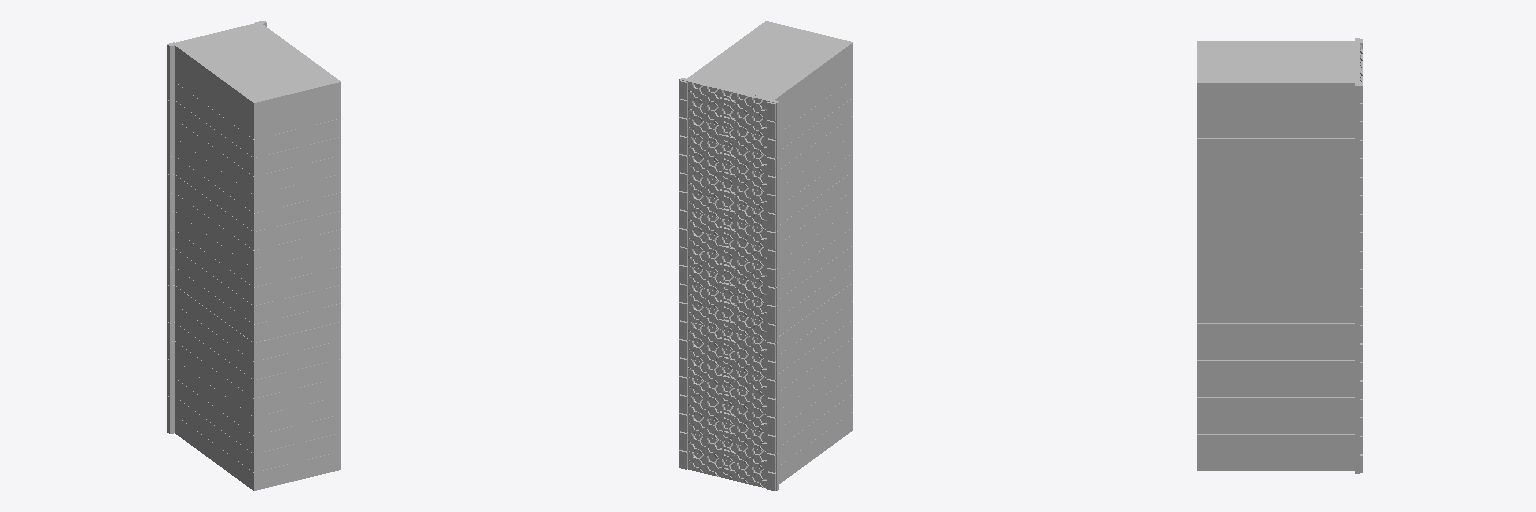
Rendered from r740_hex_block.obj.
3 views of the same model, side by side, from view 1: azimuth 30°, elevation 25°; view 2: azimuth 150°, elevation 25°; view 3: azimuth 270°, elevation 25° (orthographic).
Visible parts, largest first — view 1: Chassis.020_Cube.135, Chassis.007_Cube.053, Chassis.017_Cube.117, Chassis.001_Cube.005, Chassis.005_Cube.029, Chassis.013_Cube.090, Chassis.009_Cube.066, Chassis.008_Cube.059, Chassis.006_Cube.035, Chassis.014_Cube.096, Chassis.002_Cube.011, Chassis.004_Cube.023 (+9 smaller); view 2: Chassis.020_Cube.135, Chassis.007_Cube.053, Chassis.013_Cube.090, Chassis.017_Cube.117, Chassis.009_Cube.066, Chassis.001_Cube.005, Chassis.005_Cube.029, Chassis.002_Cube.011, Chassis.004_Cube.023, Chassis.006_Cube.035, Chassis.016_Cube.111, Chassis.008_Cube.059 (+28 smaller); view 3: Chassis.020_Cube.135, Chassis.001_Cube.005, Chassis.003_Cube.017, Chassis.005_Cube.029, Chassis.007_Cube.053, Chassis.017_Cube.117, Chassis.009_Cube.066, Chassis.011_Cube.078, Chassis.013_Cube.090, Chassis.015_Cube.105, Chassis.019_Cube.129, Chassis_Cube (+9 smaller).
Part boxes in pixels (x1,y1,x2,y2): Chassis.020_Cube.135: (175,24,340,120); Chassis.007_Cube.053: (175,286,340,361); Chassis.017_Cube.117: (175,101,340,176); Chassis.001_Cube.005: (175,397,340,472); Chassis.005_Cube.029: (175,323,340,398); Chassis.013_Cube.090: (175,175,340,249); Chassis.009_Cube.066: (175,249,340,323); Chassis.008_Cube.059: (175,267,340,342); Chassis.006_Cube.035: (175,304,340,379); Chassis.014_Cube.096: (175,156,340,231); Chassis.002_Cube.011: (175,378,340,453); Chassis.004_Cube.023: (175,341,340,416); Chassis.020_Cube.135: (687,21,852,114); Chassis.007_Cube.053: (779,283,852,354); Chassis.013_Cube.090: (779,172,852,243); Chassis.017_Cube.117: (779,98,852,169); Chassis.009_Cube.066: (779,246,852,317); Chassis.001_Cube.005: (779,394,852,465); Chassis.005_Cube.029: (779,320,852,391); Chassis.002_Cube.011: (779,375,852,446); Chassis.004_Cube.023: (779,338,852,409); Chassis.006_Cube.035: (779,301,852,372); Chassis.016_Cube.111: (779,116,852,187); Chassis.008_Cube.059: (779,264,852,335); Chassis.020_Cube.135: (1197,41,1354,101); Chassis.001_Cube.005: (1197,434,1354,452); Chassis.003_Cube.017: (1197,397,1354,415); Chassis.005_Cube.029: (1197,360,1354,378); Chassis.007_Cube.053: (1197,323,1354,341); Chassis.017_Cube.117: (1197,138,1354,156); Chassis.009_Cube.066: (1197,286,1354,304); Chassis.011_Cube.078: (1197,249,1354,267); Chassis.013_Cube.090: (1197,212,1354,230); Chassis.015_Cube.105: (1197,175,1354,193); Chassis.019_Cube.129: (1197,101,1354,119); Chassis_Cube: (1197,453,1354,470).
Bounding box in the file's own units: 0.6426 × 2.45 × 0.9534.